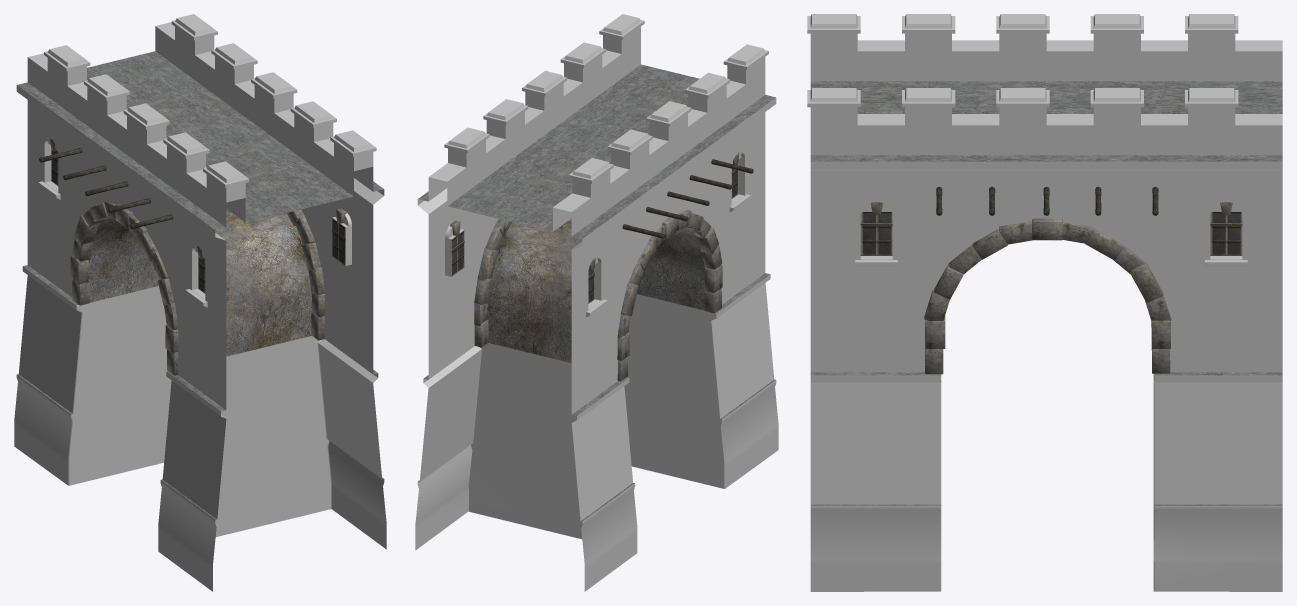
The model's file is CastleWall_Gate.fbx.
3 views of the same model, side by side, from view 1: azimuth 30°, elevation 25°; view 2: azimuth 150°, elevation 25°; view 3: azimuth 270°, elevation 25° (orthographic). The views are drawn at different scales.
Visible parts, largest first — view 1: CastleWall_Gate; view 2: CastleWall_Gate; view 3: CastleWall_Gate.
Part boxes in pixels (x1,y1,x2,y2): CastleWall_Gate: [14, 14, 386, 591]; CastleWall_Gate: [415, 14, 778, 591]; CastleWall_Gate: [807, 14, 1282, 591].
Size of the model in its own units: 724 by 1233 by 1093.
